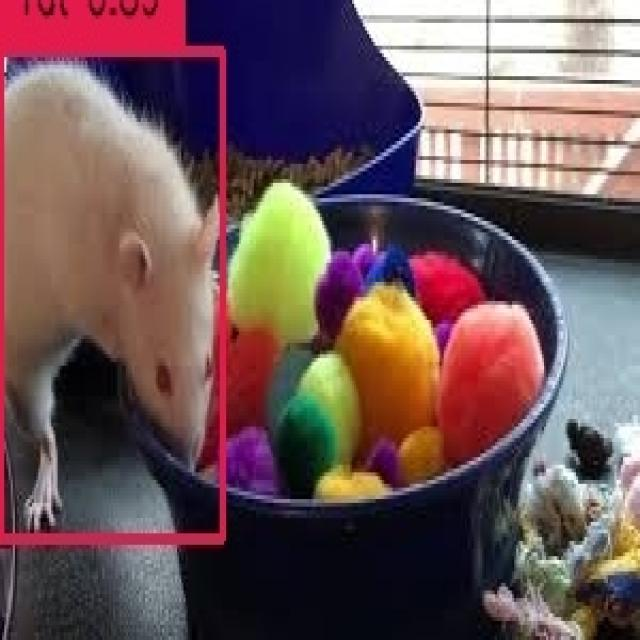rat: (0, 46, 220, 533)
